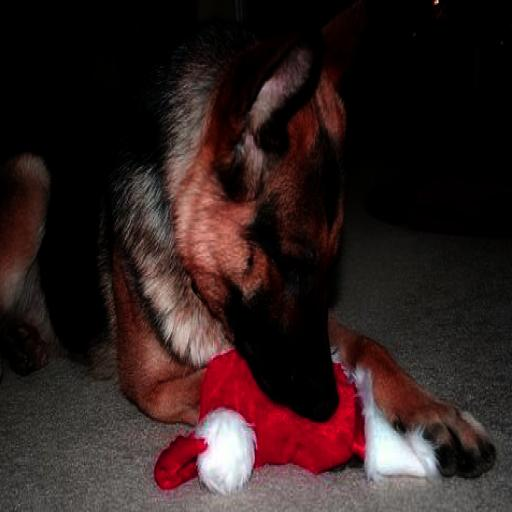dog_face: (215, 18, 386, 423)
